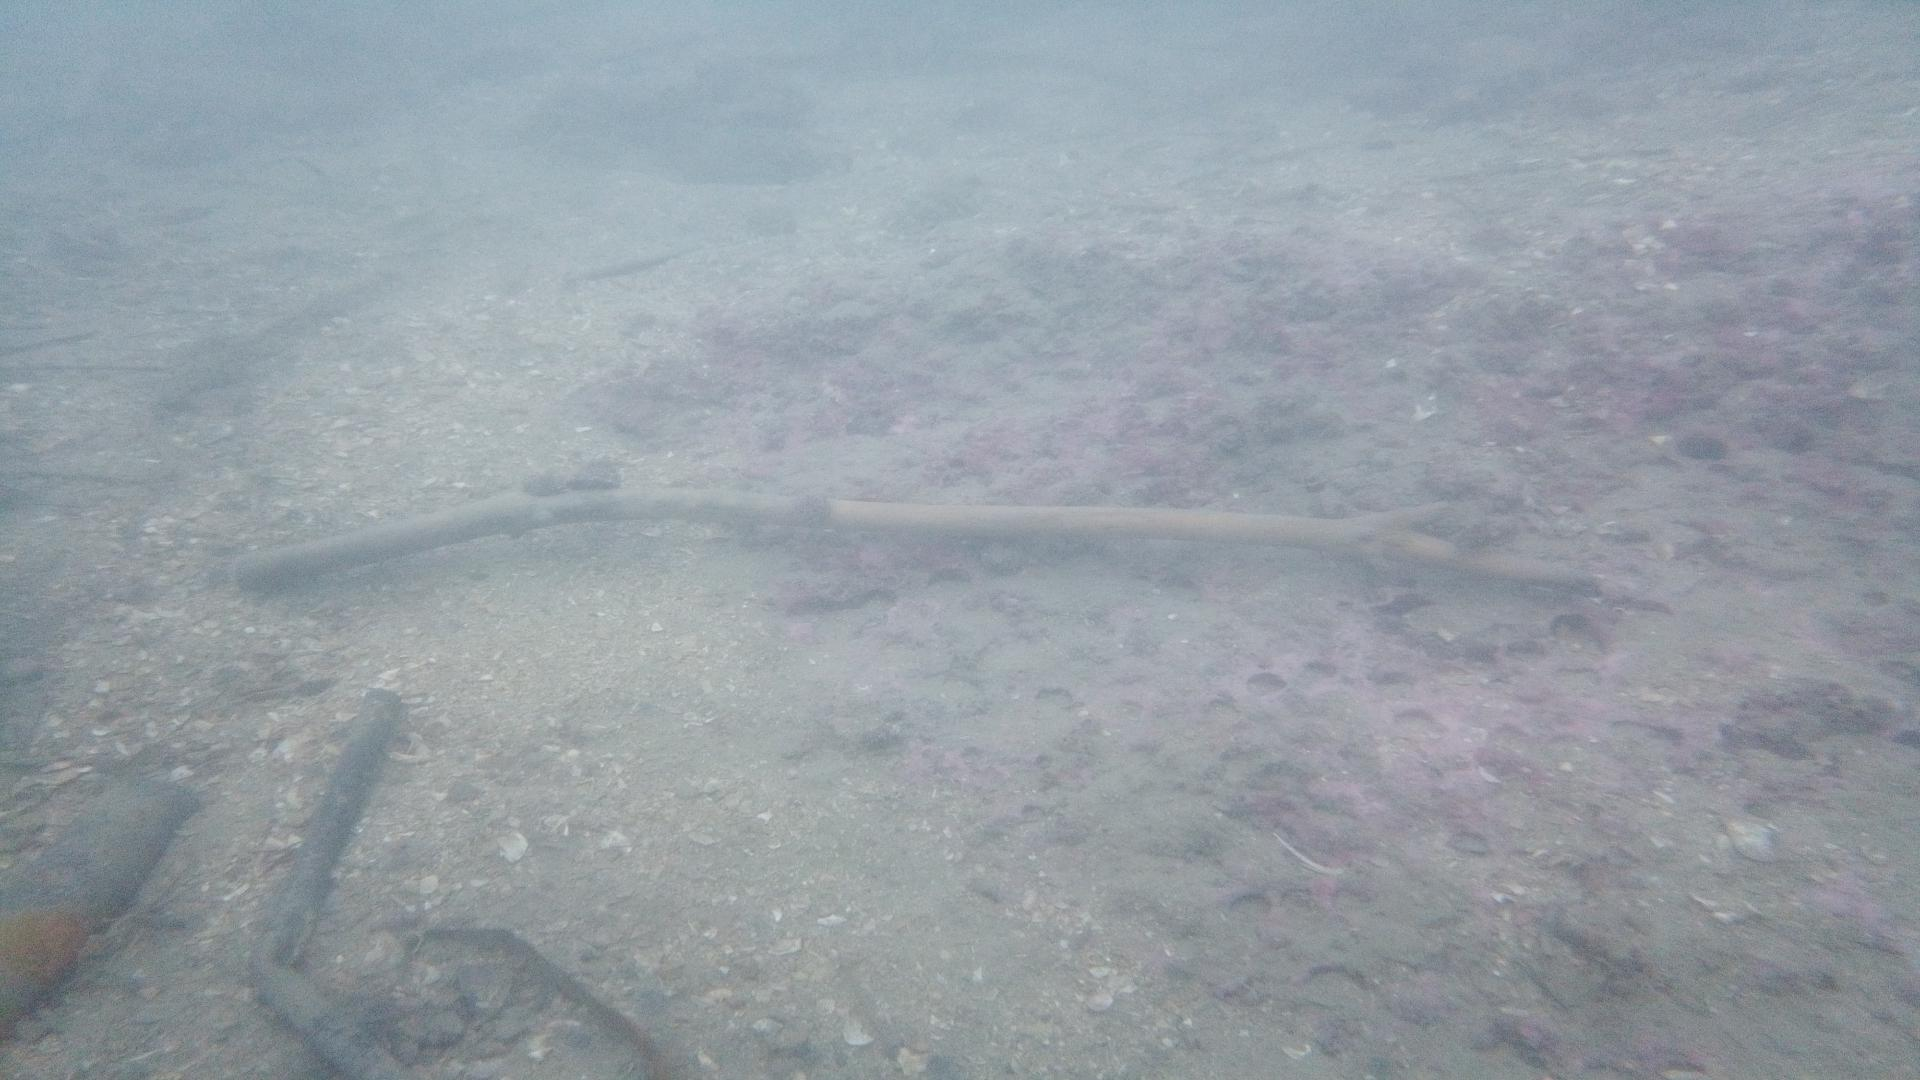wood: (231, 485, 1677, 617)
